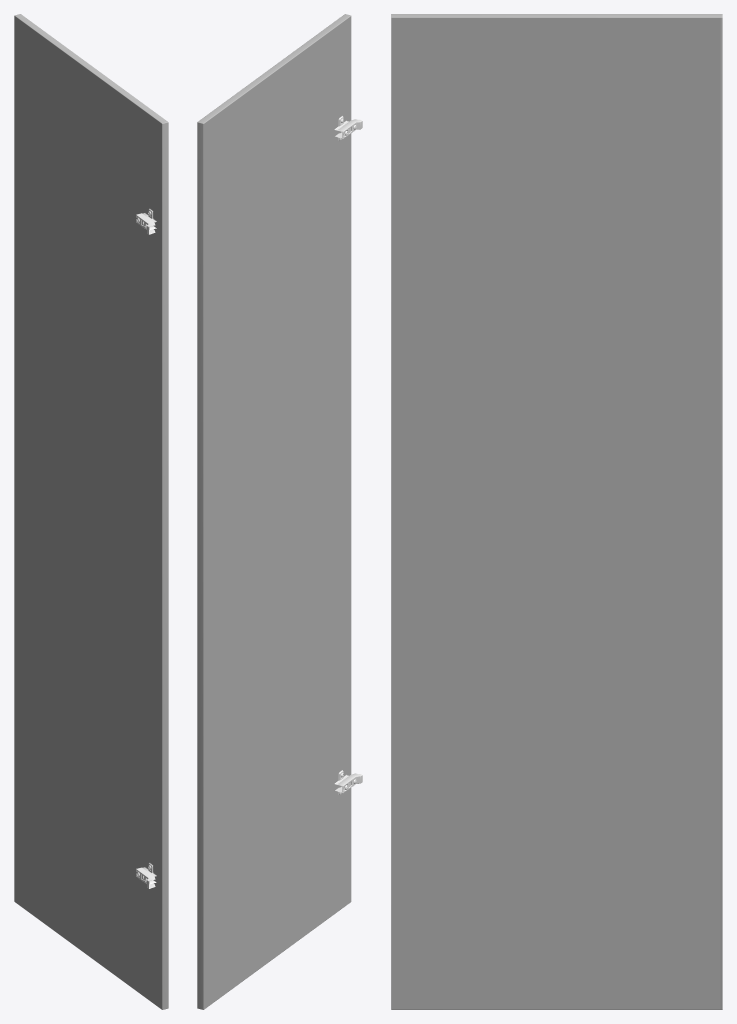
File: WardrobeDoorLeft.obj
3 views of the same model, side by side, from view 1: azimuth 30°, elevation 25°; view 2: azimuth 150°, elevation 25°; view 3: azimuth 270°, elevation 25° (orthographic). The views are drawn at different scales.
Visible parts, largest first — view 1: SM_Kleiderschrank_TürLinks_16; view 2: SM_Kleiderschrank_TürLinks_16; view 3: SM_Kleiderschrank_TürLinks_16.
Part boxes in pixels (box(x1,y1,x2,y2)): SM_Kleiderschrank_TürLinks_16: box(14, 14, 168, 1009); SM_Kleiderschrank_TürLinks_16: box(197, 14, 362, 1009); SM_Kleiderschrank_TürLinks_16: box(391, 14, 722, 1009).
Bounding box in the file's own units: 3.66 × 165 × 49.92.
